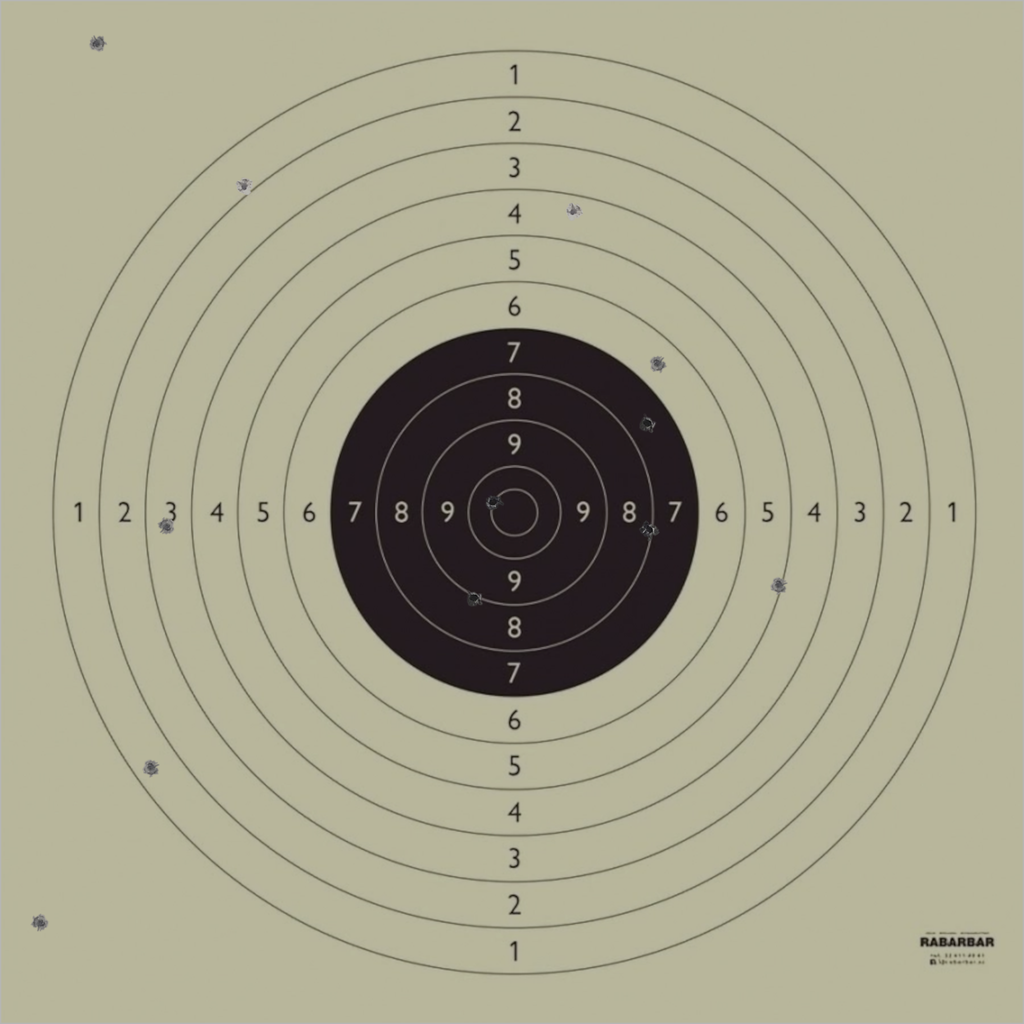0 punktow: (31, 914, 50, 932)
1 punkt: (142, 758, 160, 777)
10 punktow: (484, 493, 503, 511)
2 punkty: (235, 177, 253, 196)
3 punkty: (158, 518, 176, 536)
4 punkty: (564, 202, 583, 221)
5 punktow: (770, 576, 788, 594)
6 punktow: (648, 354, 667, 373)
7 punktow: (639, 414, 657, 433)
8 punktow: (640, 520, 658, 539)
9 punktow: (465, 589, 484, 607)
